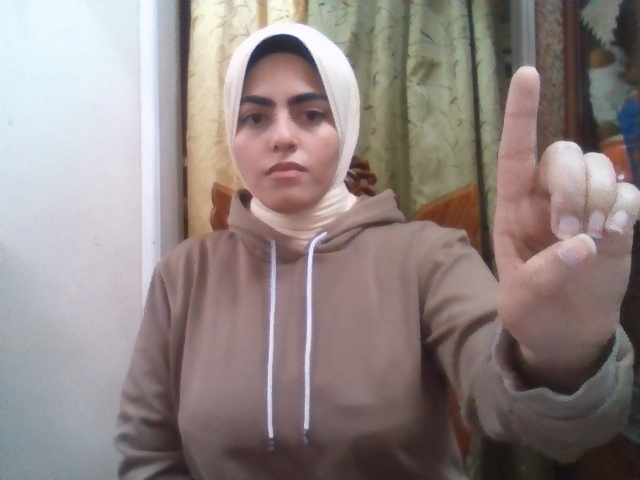D: (496, 65, 639, 352)
